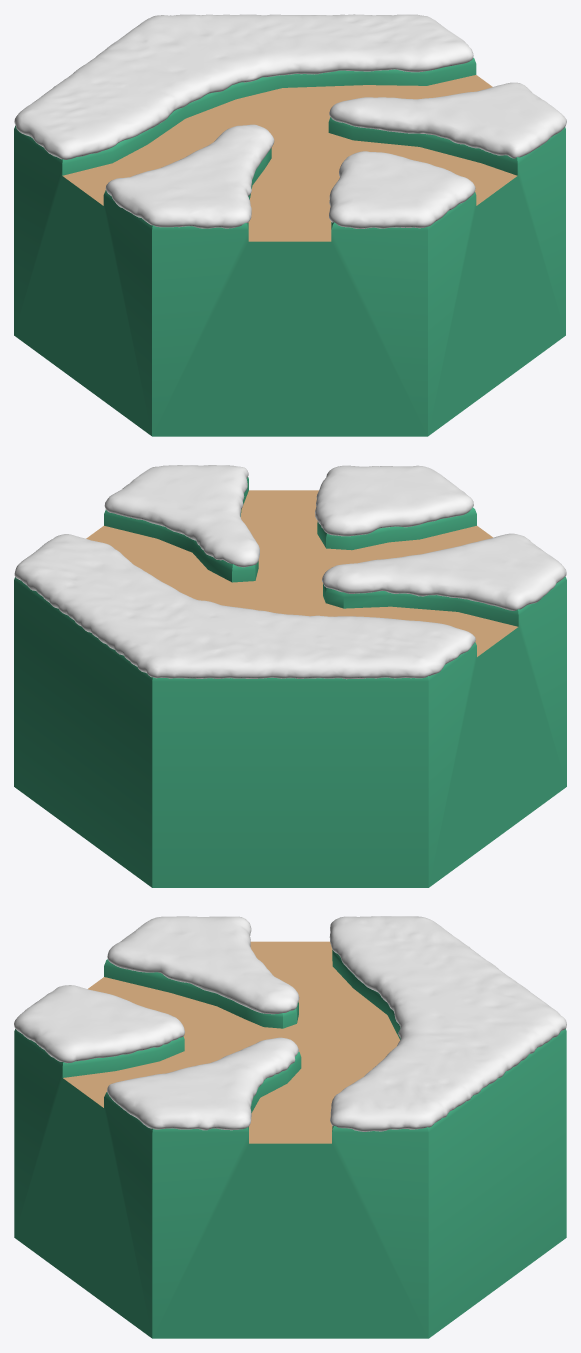
File: snow_hex_forest_roadK.fbx
3 renders of one model, top to bottom at view 1: azimuth 30°, elevation 25°; view 2: azimuth 150°, elevation 25°; view 3: azimuth 270°, elevation 25°, orthographic.
Visible parts, largest first — view 1: hex_forest_roadK.001, SnowBall.001, hex_forest_roadK; view 2: hex_forest_roadK.001, SnowBall.001, hex_forest_roadK; view 3: hex_forest_roadK.001, SnowBall.001, hex_forest_roadK.
Boxes of the visible parts, x1,y1,x2,y2 form: hex_forest_roadK.001: (14, 58, 565, 436); SnowBall.001: (14, 14, 566, 228); hex_forest_roadK: (62, 75, 517, 241); hex_forest_roadK.001: (14, 477, 566, 887); SnowBall.001: (14, 465, 566, 679); hex_forest_roadK: (86, 490, 517, 656); hex_forest_roadK.001: (14, 949, 566, 1338); SnowBall.001: (14, 916, 566, 1131); hex_forest_roadK: (63, 941, 399, 1143).
Size of the model in its own units: 204 by 104 by 231.
